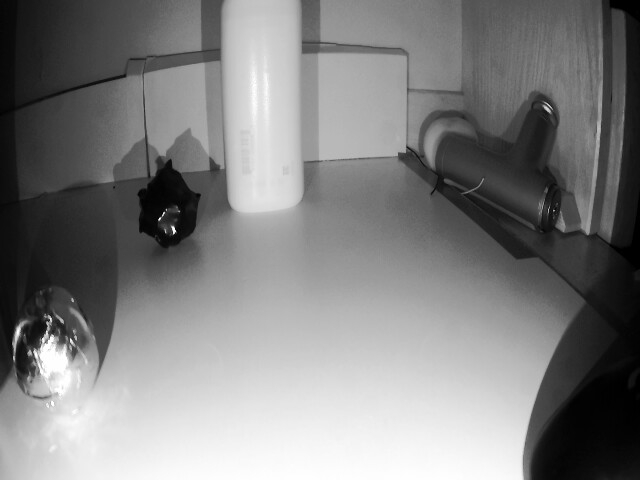black: (5, 286, 104, 404)
silver: (129, 167, 208, 248)
